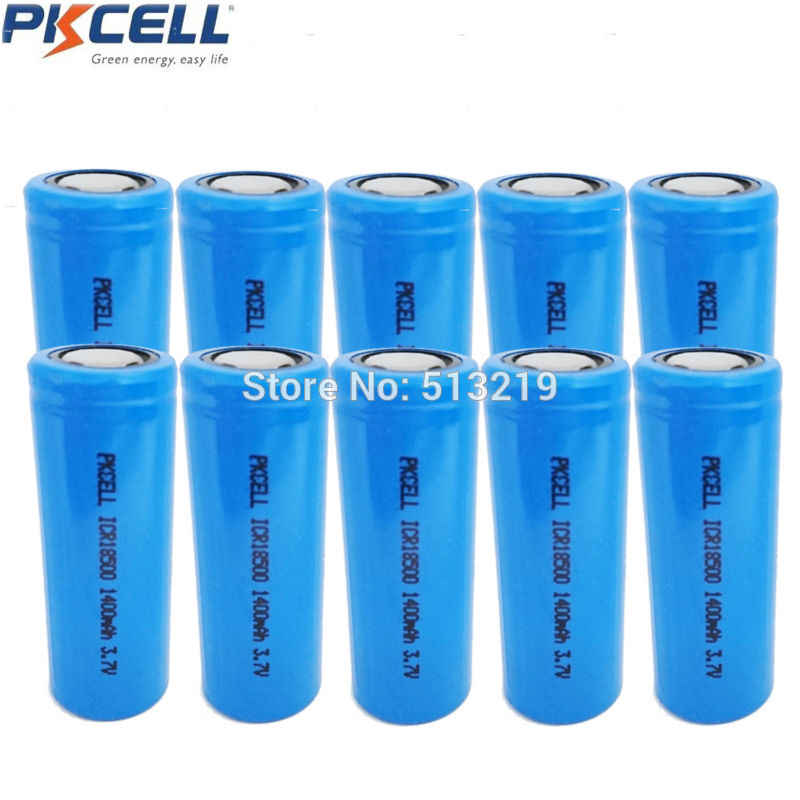Battery: (632, 343, 788, 729), (329, 342, 482, 733), (178, 338, 331, 727), (480, 345, 632, 733), (26, 338, 178, 724), (20, 161, 179, 356), (474, 167, 629, 360), (629, 167, 784, 357), (325, 166, 476, 356), (175, 167, 327, 355)
